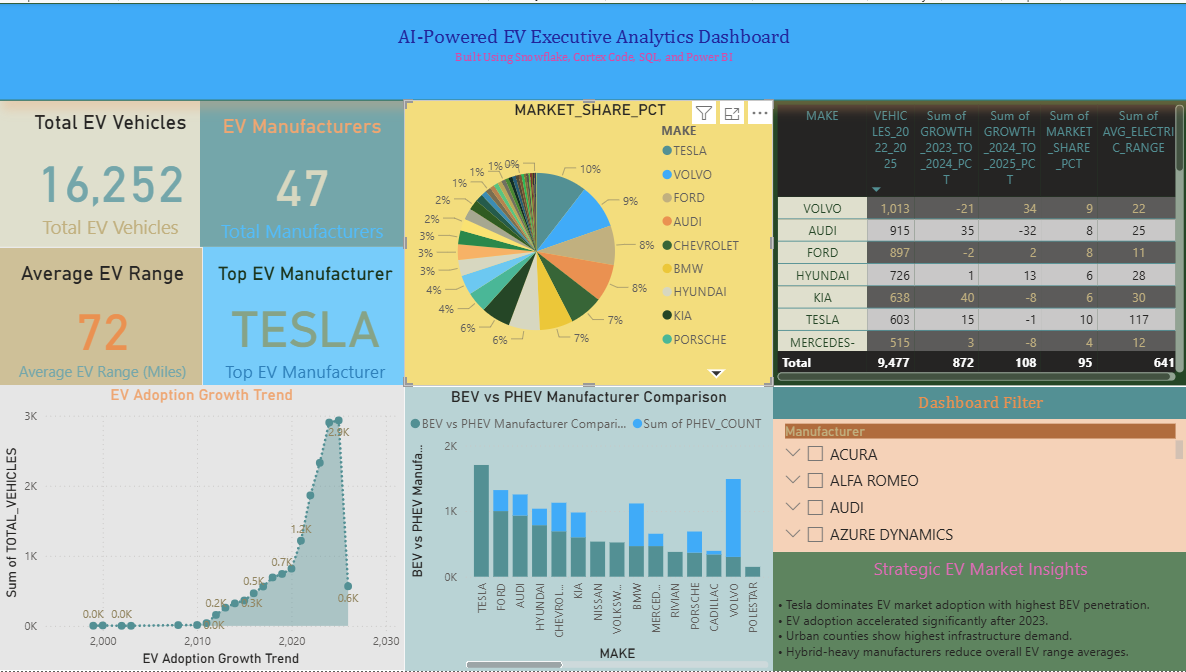

The page's visual inventory and layout, read from the dashboard file:
{"tool":"powerbi","page":{"name":"Page 1","canvas":[1280,720],"ordinal":0},"visuals":[{"type":"card","title":"Total EV Vehicles","fields":{"Values":["Sum(EV_ADOPTION_BY_MANUFACTURER.TOTAL_VEHICLES)"]},"box":[0,104.3,219.9,158.2],"z":0},{"type":"card","title":"EV Manufacturers","fields":{"Values":["EV_POPULATION_SILVER.Total Manufacturers"]},"box":[216.5,104.3,219.9,158.2],"z":1000},{"type":"card","title":"Average EV Range","fields":{"Values":["EV_ADOPTION_BY_MANUFACTURER.Average EV Range (Miles)"]},"box":[0,262.5,219.9,150.3],"z":2000},{"type":"card","title":"Top EV Manufacturer","fields":{"Values":["EV_POPULATION_SILVER.Top EV Manufacturer"]},"box":[219.9,262.5,219.9,149.2],"z":3000},{"type":"pieChart","title":"MARKET_SHARE_PCT","fields":{"Category":["EV_ADOPTION_BY_MANUFACTURER.MAKE"],"Y":["Sum(EV_ADOPTION_BY_MANUFACTURER.MARKET_SHARE_PCT)"]},"box":[436.1,104.8,396.7,307.2],"z":4000},{"type":"lineChart","title":"EV Adoption Growth Trend","fields":{"Category":["EV_GROWTH_BY_YEAR.MODEL_YEAR"],"Y":["Sum(EV_GROWTH_BY_YEAR.TOTAL_VEHICLES)"]},"box":[0,411,436.1,307.2],"z":5000},{"type":"columnChart","title":"BEV vs PHEV Manufacturer Comparison","fields":{"Category":["EV_ADOPTION_BY_MANUFACTURER.MAKE"],"Y":["Sum(EV_ADOPTION_BY_MANUFACTURER.BEV_COUNT)","Sum(EV_ADOPTION_BY_MANUFACTURER.PHEV_COUNT)"]},"box":[436.4,412.8,396,307.4],"z":6000},{"type":"tableEx","fields":{"Values":["EV_FASTEST_GROWING_MANUFACTURERS.MAKE","Sum(EV_FASTEST_GROWING_MANUFACTURERS.TOTAL_VEHICLES_2022_2025)","Sum(EV_FASTEST_GROWING_MANUFACTURERS.GROWTH_2023_TO_2024_PCT)","Sum(EV_FASTEST_GROWING_MANUFACTURERS.GROWTH_2024_TO_2025_PCT)","Sum(EV_FASTEST_GROWING_MANUFACTURERS.MARKET_SHARE_PCT)","Sum(EV_FASTEST_GROWING_MANUFACTURERS.AVG_ELECTRIC_RANGE)"]},"box":[831.9,104.8,447.8,307.2],"z":7000},{"type":"textbox","box":[832.8,590.1,446.9,129.9],"z":8000},{"type":"textbox","box":[0,0,1279.7,104.8],"z":9000},{"type":"textbox","box":[832.8,412.8,446.9,34.9],"z":10000},{"type":"slicer","fields":{"Values":["EV_POPULATION_SILVER.MAKE","EV_POPULATION_SILVER.MODEL_YEAR","EV_POPULATION_SILVER.ELECTRIC_VEHICLE_TYPE"]},"box":[832.5,447.5,446.4,143.1],"z":11000}]}

Visuals, with their boxes in screenshot pixels (x1, y1, x2, y2), scaled from the page's 1280x720 canvas onto the 1186x672 screenshot:
"Total EV Vehicles" card: (left=0, top=97, right=204, bottom=245)
"EV Manufacturers" card: (left=201, top=97, right=404, bottom=245)
"Average EV Range" card: (left=0, top=245, right=204, bottom=385)
"Top EV Manufacturer" card: (left=204, top=245, right=408, bottom=384)
"MARKET_SHARE_PCT" pieChart: (left=404, top=98, right=772, bottom=385)
"EV Adoption Growth Trend" lineChart: (left=0, top=384, right=404, bottom=670)
"BEV vs PHEV Manufacturer Comparison" columnChart: (left=404, top=385, right=771, bottom=671)
tableEx - EV_FASTEST_GROWING_MANUFACTURERS.MAKE x Sum(EV_FASTEST_GROWING_MANUFACTURERS.TOTAL_VEHICLES_2022_2025): (left=771, top=98, right=1185, bottom=385)
textbox: (left=772, top=551, right=1185, bottom=671)
textbox: (left=0, top=0, right=1185, bottom=98)
textbox: (left=772, top=385, right=1185, bottom=418)
slicer - EV_POPULATION_SILVER.MAKE x EV_POPULATION_SILVER.MODEL_YEAR: (left=771, top=418, right=1185, bottom=551)
